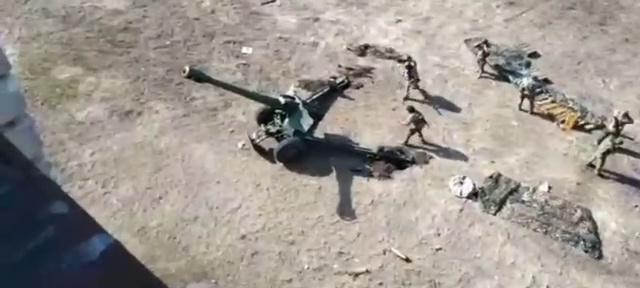person: (586, 134, 625, 178), (399, 104, 429, 146), (600, 108, 634, 144), (402, 56, 422, 103), (516, 78, 538, 116), (474, 38, 492, 81)
sau: (180, 65, 414, 167)
